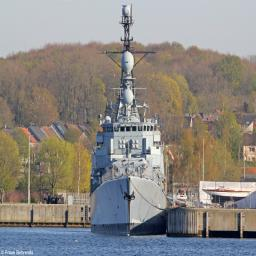Fragata: (89, 2, 169, 239)
